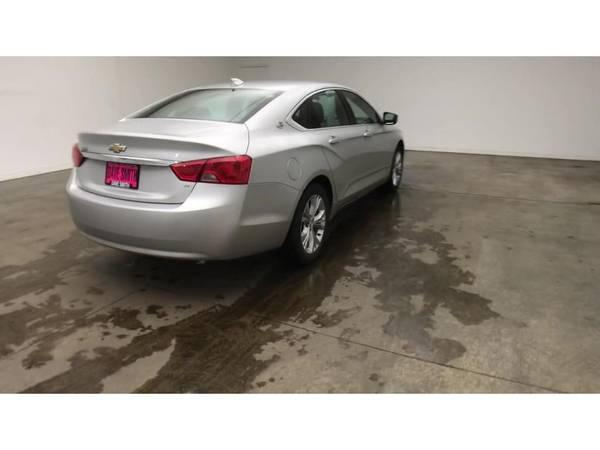Front_Right_Door: (360, 123, 397, 190)
Front_Right_Window: (341, 88, 390, 125)
Left_Taillight: (73, 143, 87, 168)
Rear_Bumper: (66, 170, 300, 258)
Rear_Fender: (247, 121, 329, 192)
Rear_Right_Door: (306, 126, 368, 209)
Rear_Right_Window: (285, 87, 356, 132)
Rear_Windshield: (130, 87, 283, 122)
Right_Taillight: (170, 154, 253, 184)
Roof: (192, 77, 350, 122)
Tailgate: (77, 115, 249, 203)
Wheel: (295, 187, 333, 260), (392, 148, 404, 188)
